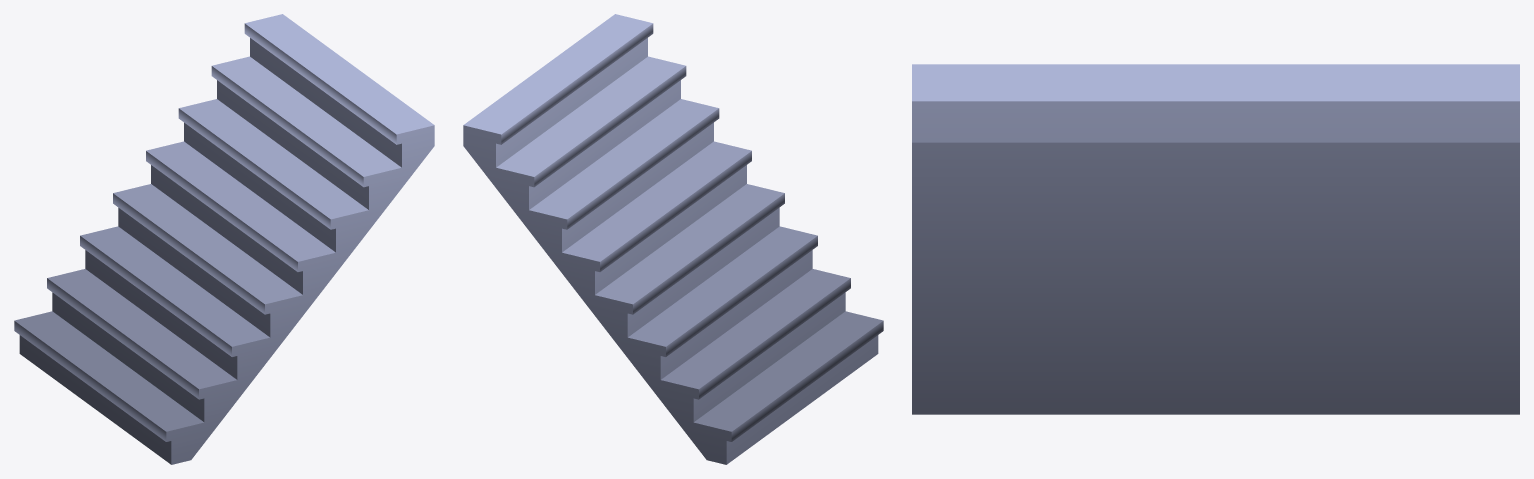
The model's file is stairs-kn-stairs-wide-stone.glb.
3 renders of one model, left to right at view 1: azimuth 30°, elevation 25°; view 2: azimuth 150°, elevation 25°; view 3: azimuth 270°, elevation 25°, orthographic. The views are drawn at different scales.
Visible parts, largest first — view 1: stairs-wide-stone; view 2: stairs-wide-stone; view 3: stairs-wide-stone.
Part boxes in pixels (bbox=[...]): stairs-wide-stone: bbox=[14, 14, 434, 464]; stairs-wide-stone: bbox=[463, 14, 883, 464]; stairs-wide-stone: bbox=[912, 64, 1519, 414].
Size of the model in its own units: 3.06 by 3 by 3.
1 material, 1 textured.
